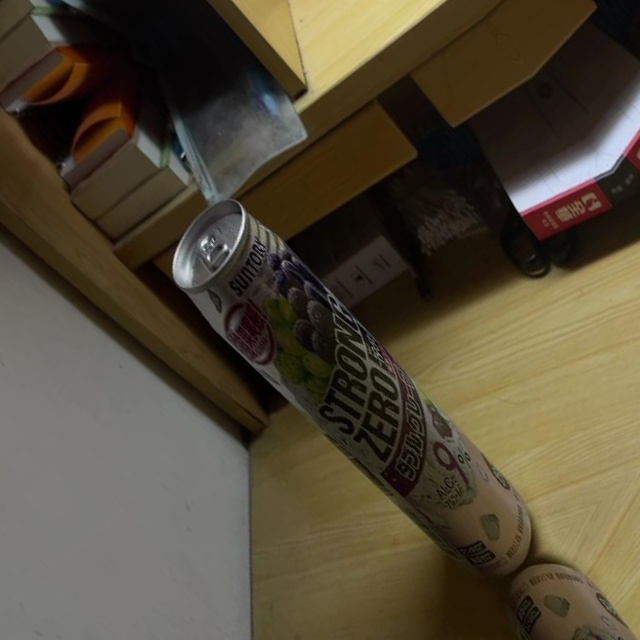Liquor: (154, 171, 555, 615)
